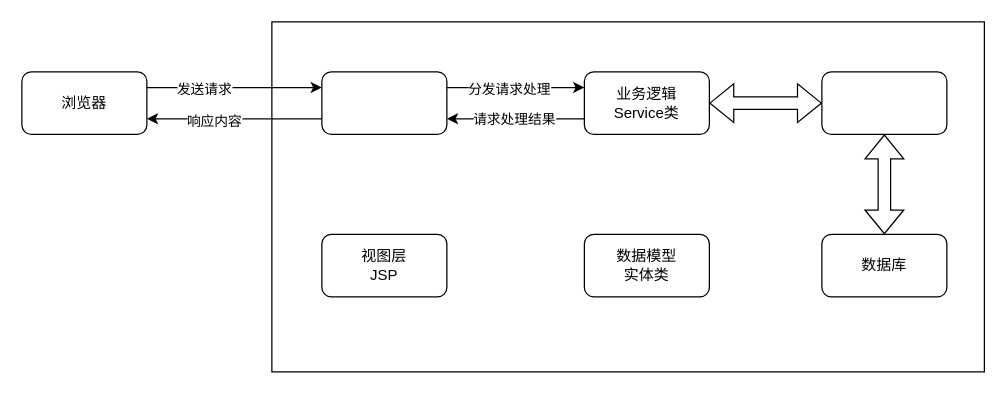
This 1006x394 diagram has some shape labels left out. The box of each missing label's shape, as (x1, y1, x2, y2) in pixels:
持久层 Dao类: (821, 71, 947, 134)
控制器 Controller类: (321, 71, 447, 134)
